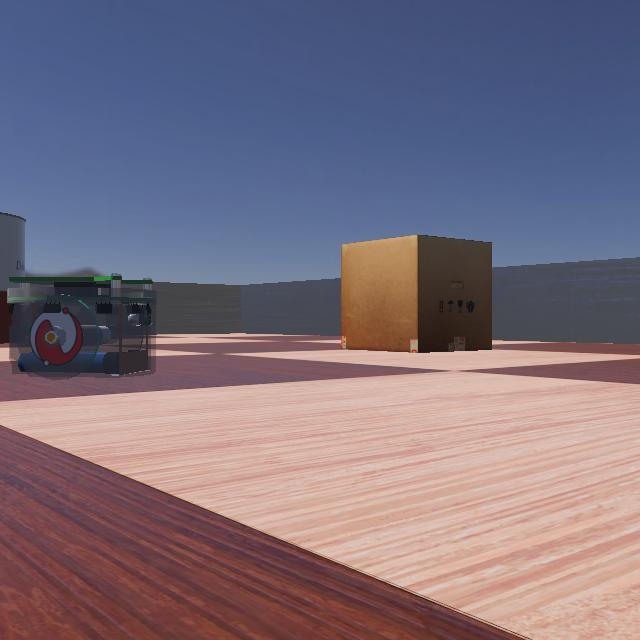cardboard-box: (338, 234, 510, 352)
